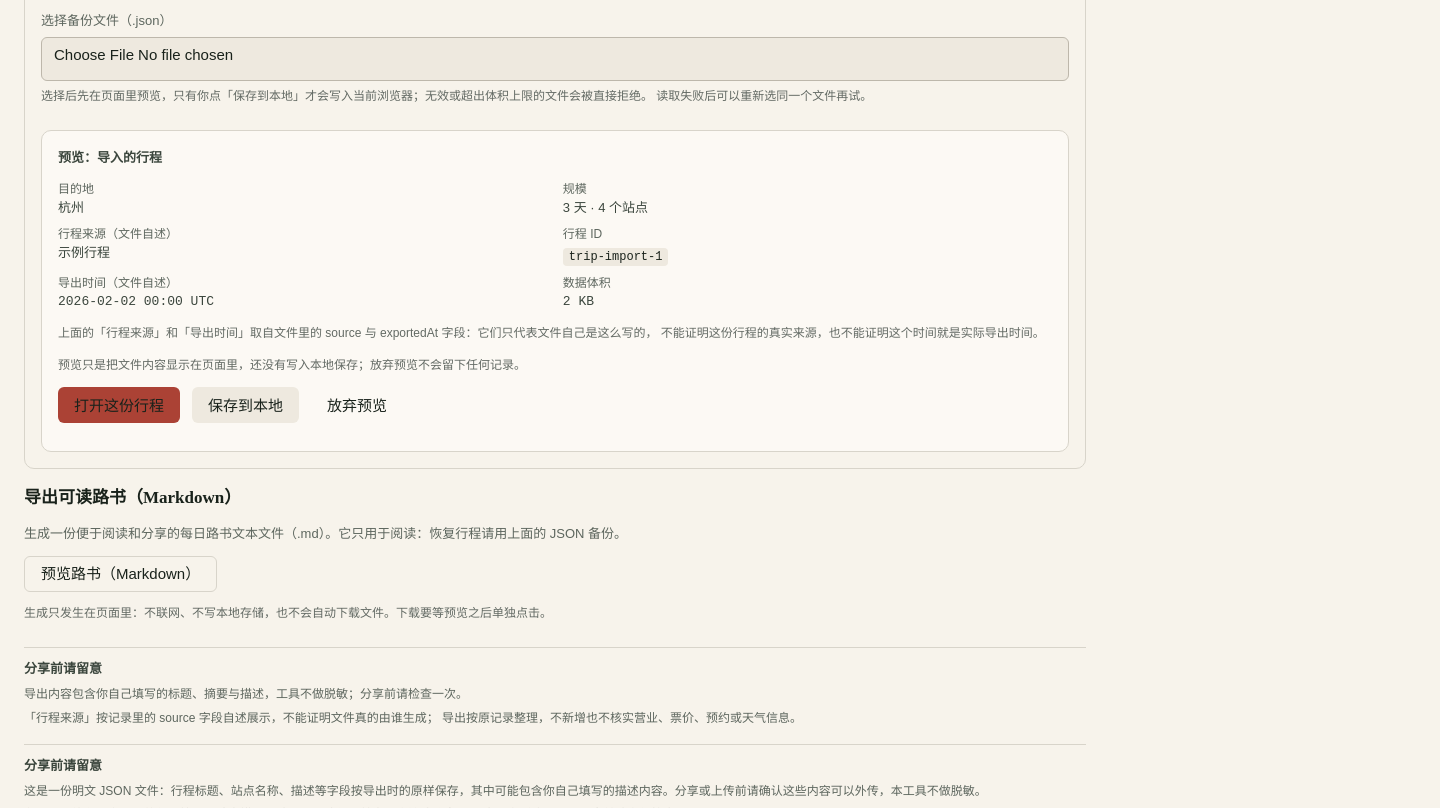
Test: App × 落印（六期 S1） › 导入备份恢复不触发落印
Earlier steps of the test are not shown.
(page scrolled)
Click the button "打开这份行程" at [119, 405], box [58, 387, 180, 423]
(page scrolled)
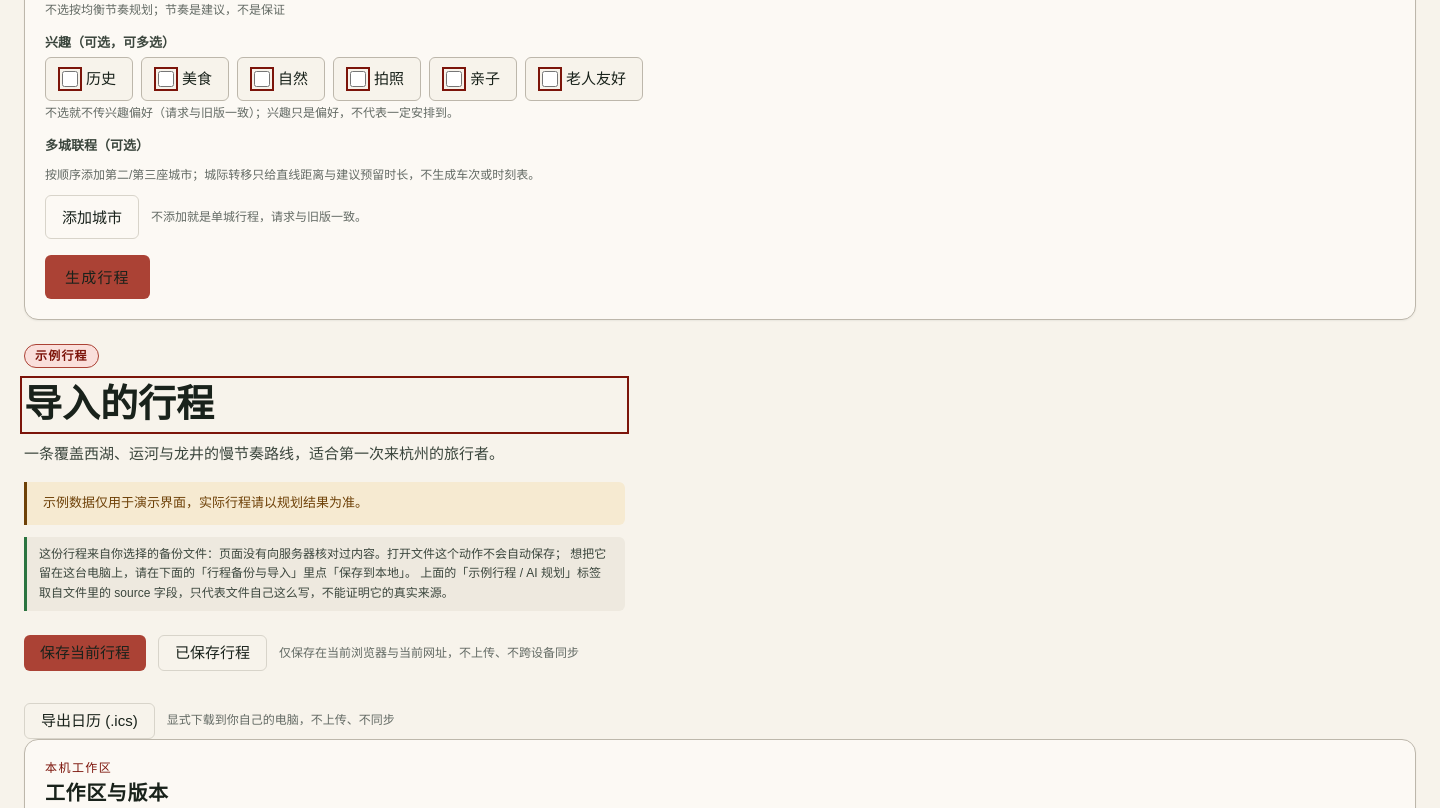
Expected: the heading "导入的行程" is shown, [24, 383, 214, 425]
